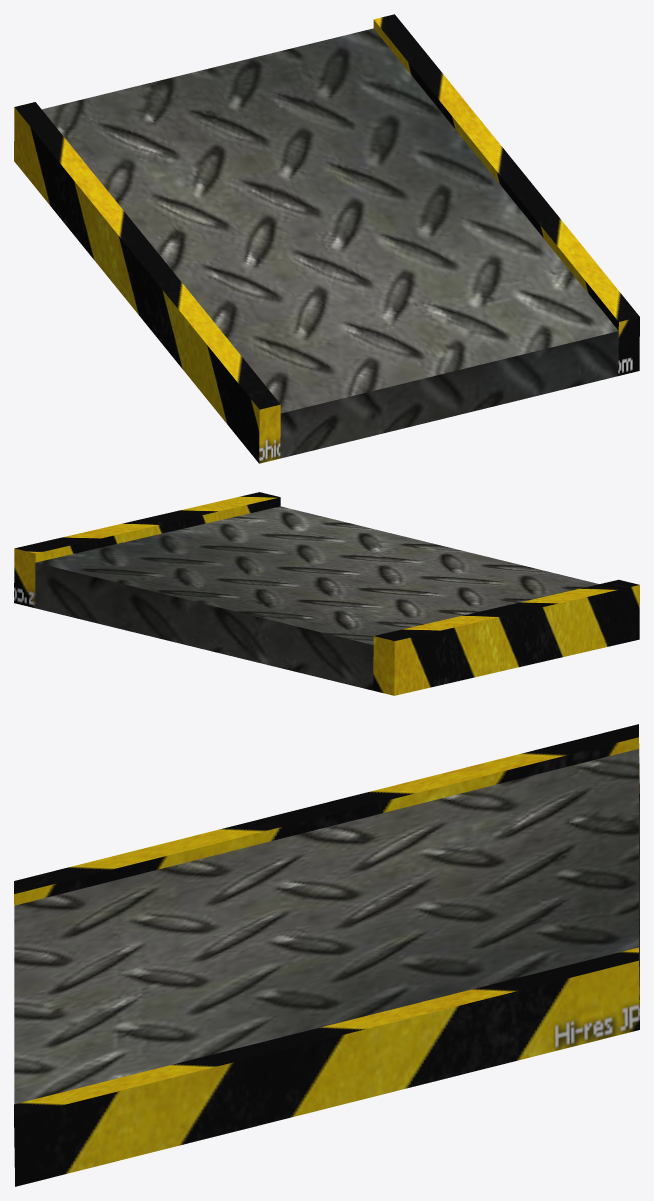
The model's file is Ramp_fbx.fbx.
3 views of the same model, one above another, from view 1: azimuth 30°, elevation 25°; view 2: azimuth 150°, elevation 25°; view 3: azimuth 270°, elevation 25° (orthographic). The views are drawn at different scales.
Visible parts, largest first — view 1: LR_Ramp:Layer1, LR_Ramp:Layer2; view 2: LR_Ramp:Layer1, LR_Ramp:Layer2; view 3: LR_Ramp:Layer1, LR_Ramp:Layer2.
Part boxes in pixels (<box>): LR_Ramp:Layer1: <box>42,28,618,458</box>; LR_Ramp:Layer2: <box>14,14,639,463</box>; LR_Ramp:Layer1: <box>35,506,599,690</box>; LR_Ramp:Layer2: <box>14,492,639,695</box>; LR_Ramp:Layer1: <box>14,749,639,1104</box>; LR_Ramp:Layer2: <box>14,724,639,1186</box>.
Bounding box in the file's own units: 4.5 × 2.01 × 5.03.
